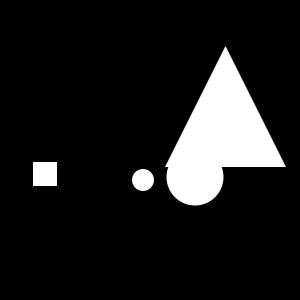circle: (33, 162, 57, 186)
rectangle: (167, 148, 224, 205), (132, 169, 154, 191)
triangle: (165, 46, 286, 167)
